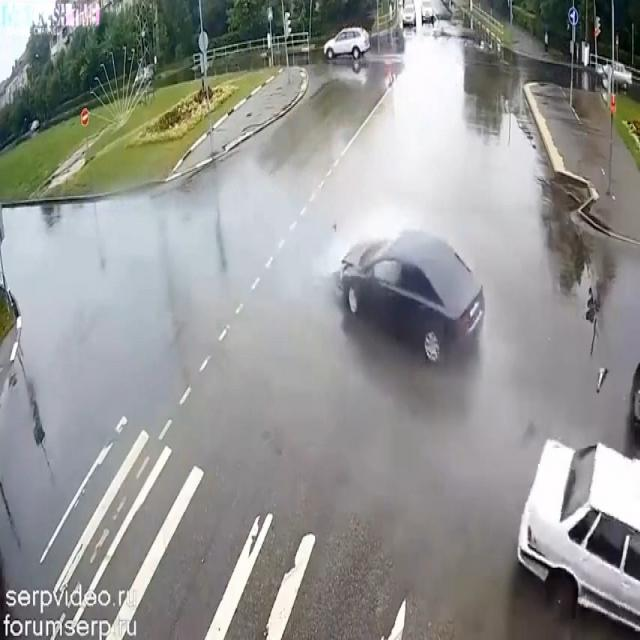Accident: (322, 174, 640, 640)
